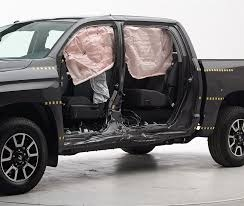Smashed: (46, 63, 192, 142)
